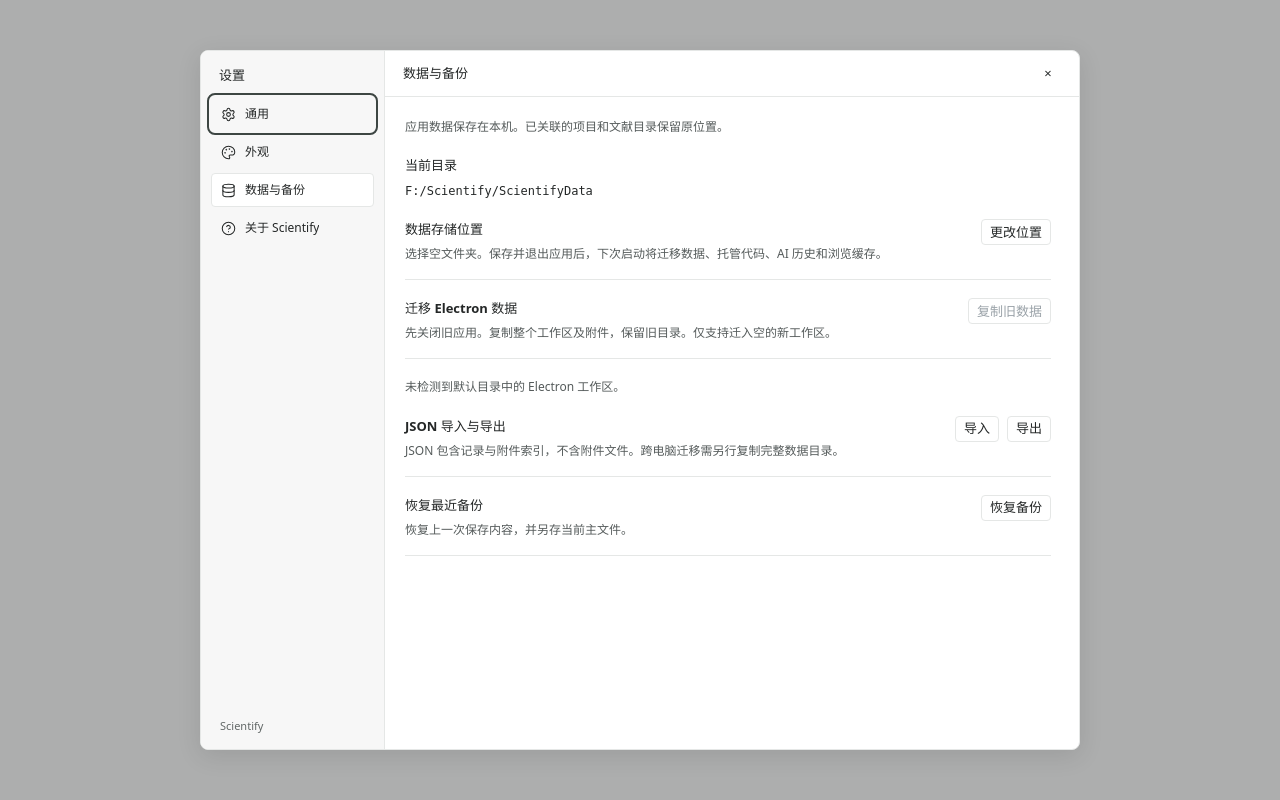
Test: schedules a storage move without replacing live data, and supports cancellation
Expected: the text "F:/Scientify/ScientifyData" is shown, [405,184,593,198]
Click the button "更改位置".
click(1016, 232)  # box [981,219,1051,245]
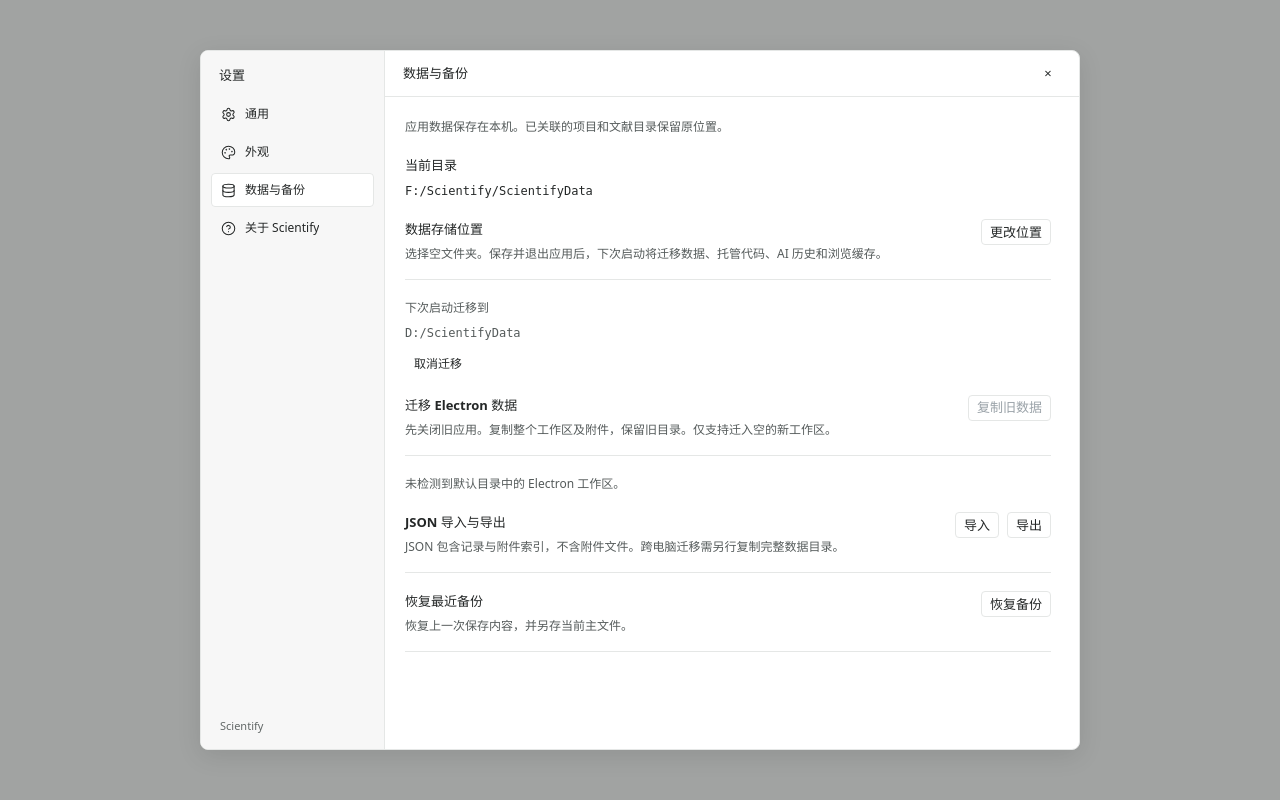
Result: the text "D:/ScientifyData" is shown at [405,326,521,340]
Click the button "取消迁移".
click(438, 364)  # box [405,351,471,377]
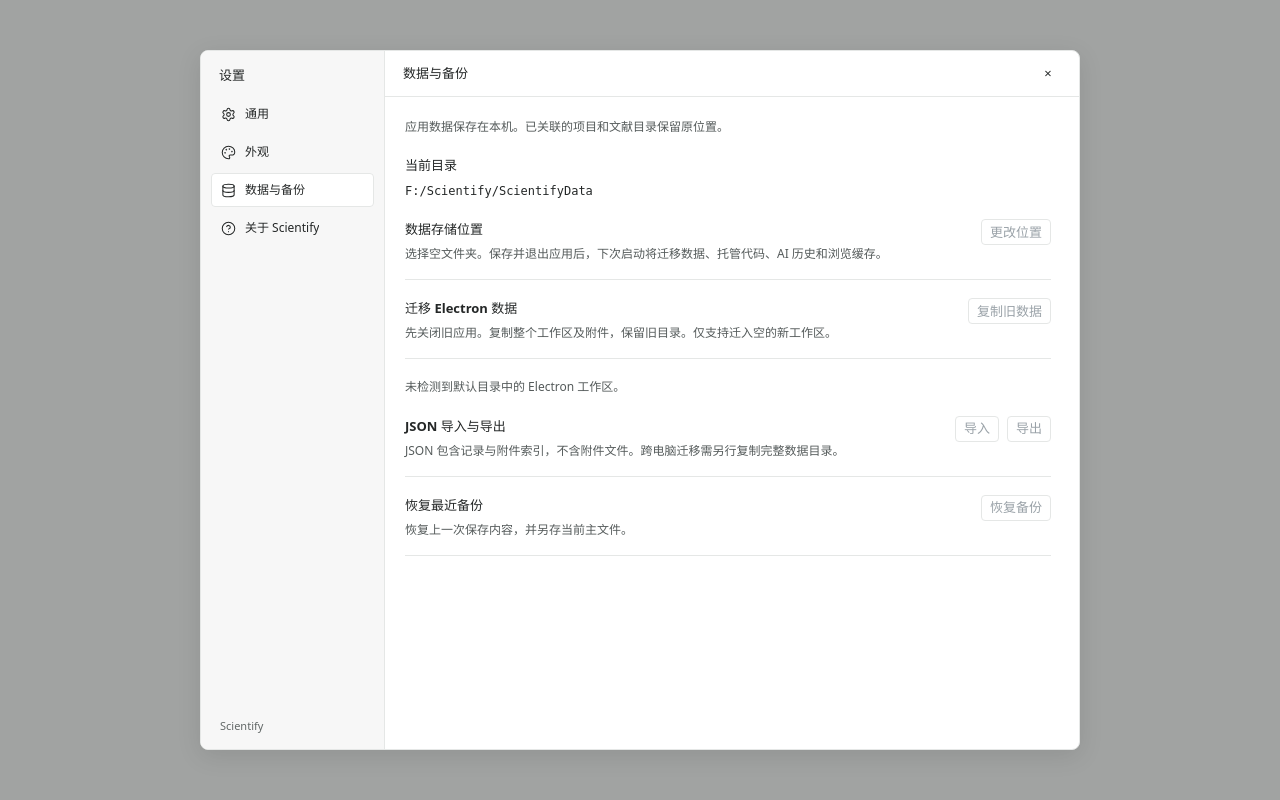
Result: the text "D:/ScientifyData" is gone
Result: the button "更改位置" is disabled at [981,219,1051,245]
